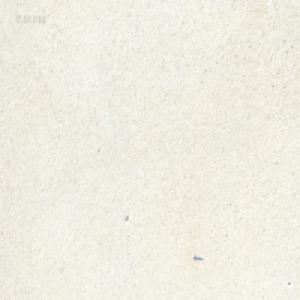Nail: (193, 253, 202, 260)
